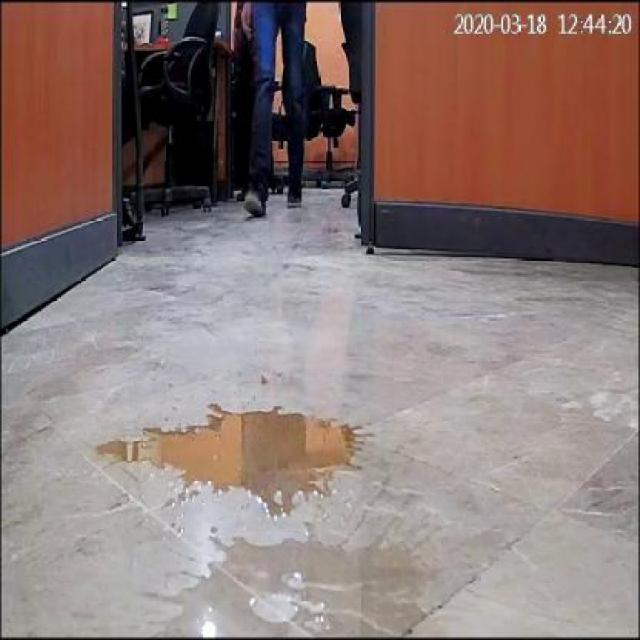spill: (95, 394, 377, 508), (152, 528, 442, 636)
